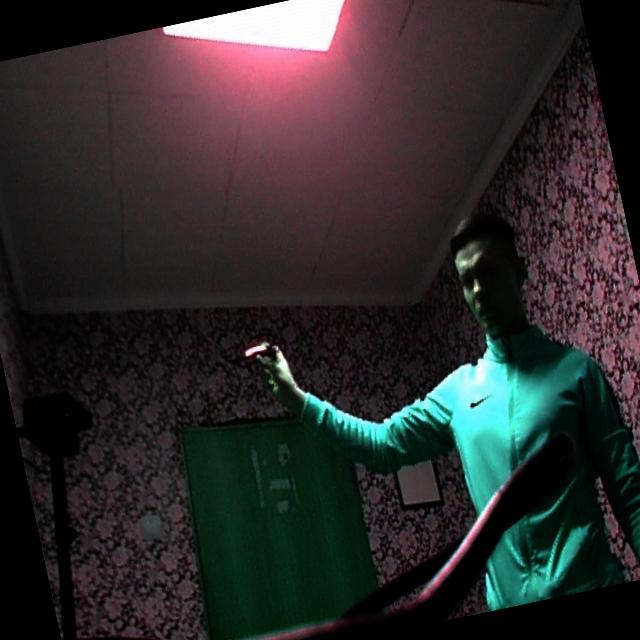drone: (214, 311, 305, 389)
